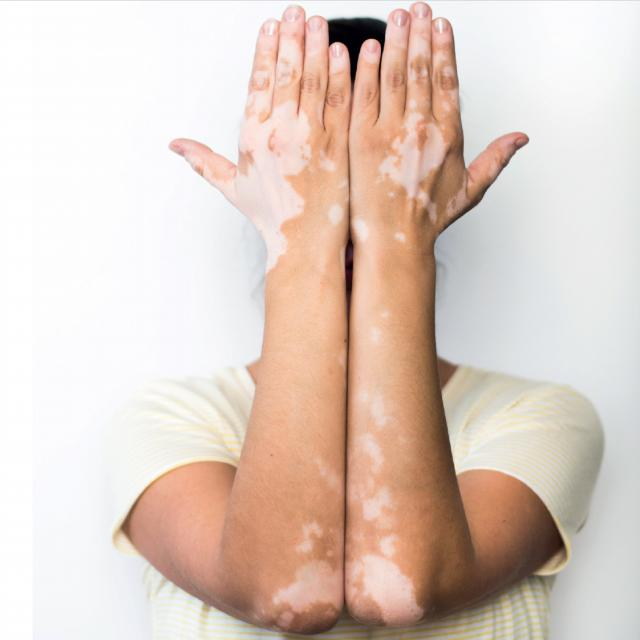vitiligo: (171, 25, 487, 636)
